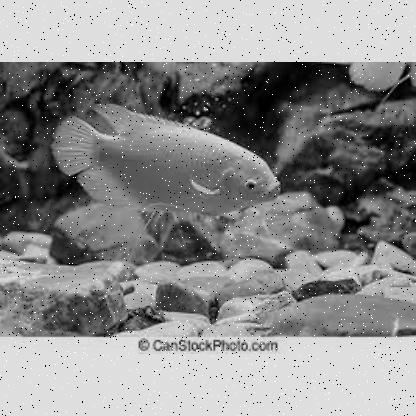gurame: (50, 106, 284, 216)
